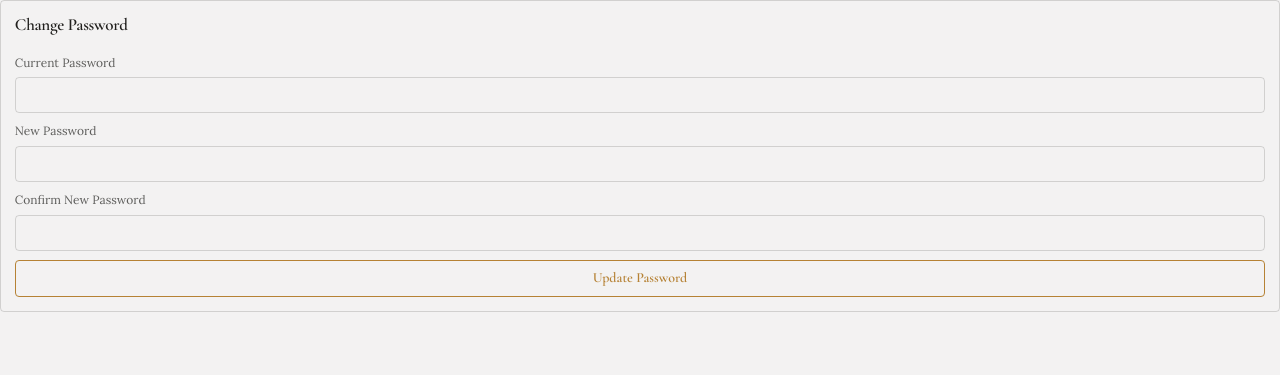
Test case: ChangePasswordForm › submits, clears the fields, and shows a success message
Type "oldpassword1" into the password field labelled "Current Password" at coordinates (640, 95), box [15,77,1265,113]
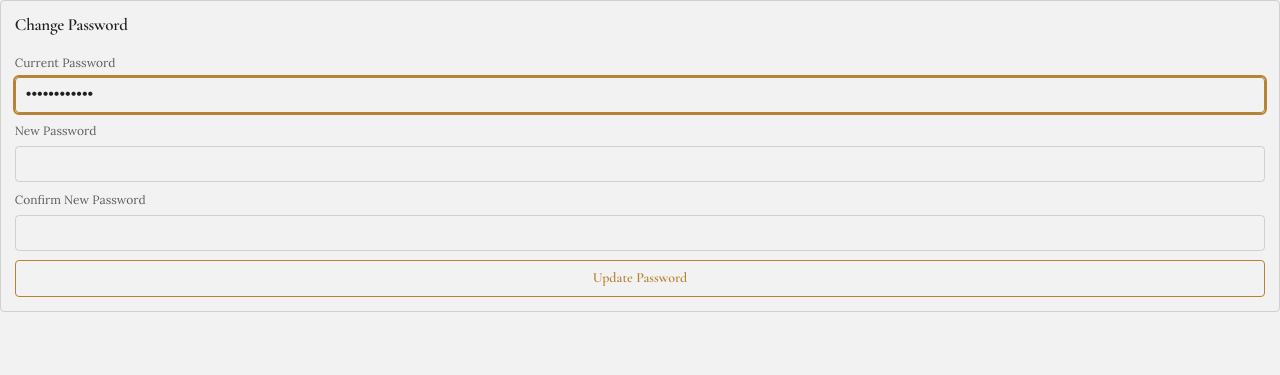
Type "newpassword123" into the password field labelled "New Password" at coordinates (640, 164), box [15,146,1265,182]
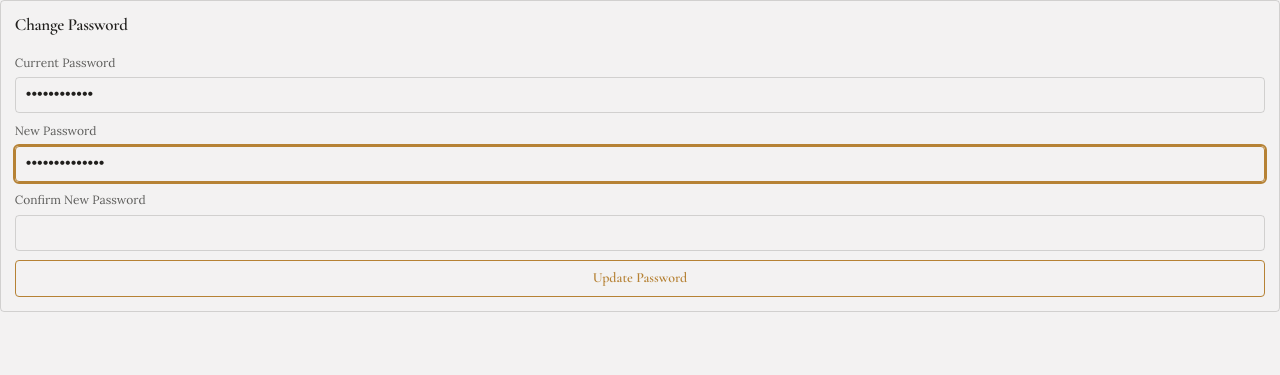
Type "newpassword123" into the password field labelled "Confirm New Password" at coordinates (640, 233), box [15,215,1265,251]
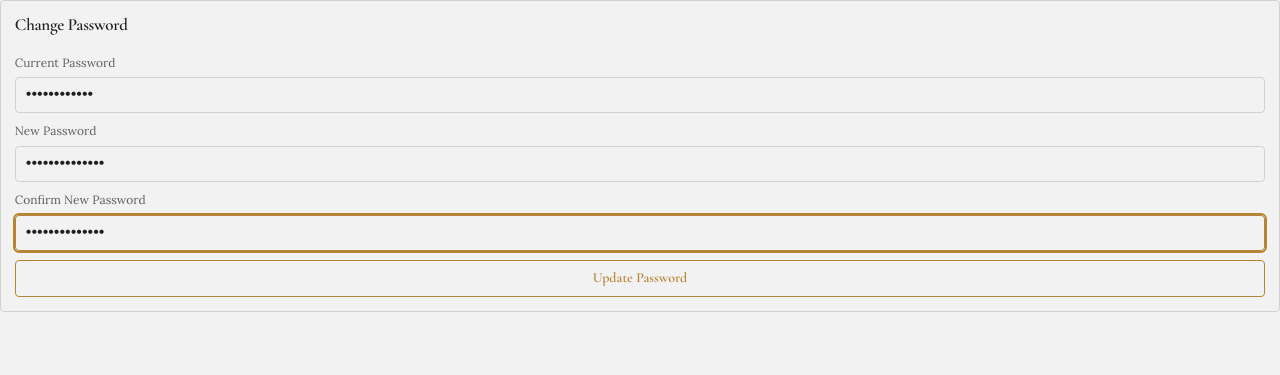
Click the button "Update Password" at coordinates (640, 278), box [15,260,1265,297]
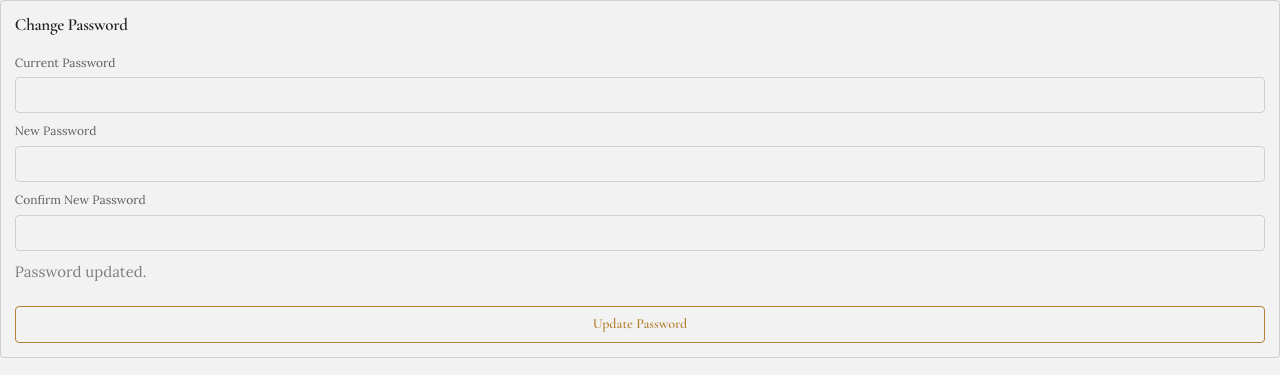
Check: the text "Password updated." is shown, box [15,262,146,281]
Check: the password field labelled "Current Password" is empty, box [15,77,1265,113]
Check: the password field labelled "New Password" is empty, box [15,146,1265,182]
